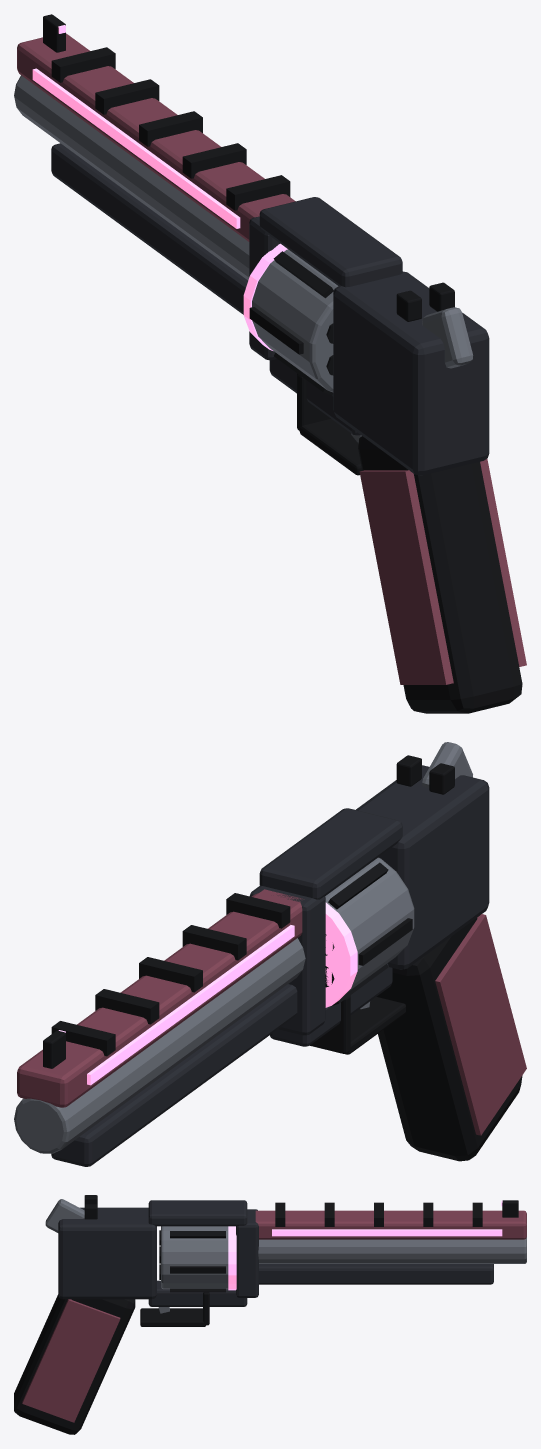
Rendered from revolver.glb.
3 renders of one model, top to bottom at view 1: azimuth 30°, elevation 25°; view 2: azimuth 150°, elevation 25°; view 3: azimuth 270°, elevation 25°, orthographic. The views are drawn at different scales.
Visible parts, largest first — view 1: Body, Cylinder, IronSights; view 2: Body, Cylinder, IronSights; view 3: Body, Cylinder, IronSights.
Part boxes in pixels (<box>): Body: <box>14,33,526,713</box>; Cylinder: <box>243,243,338,395</box>; IronSights: <box>43,14,454,321</box>; Body: <box>14,742,526,1166</box>; Cylinder: <box>325,857,414,1007</box>; IronSights: <box>43,755,454,1068</box>; Body: <box>14,1199,526,1434</box>; Cylinder: <box>159,1226,236,1292</box>; IronSights: <box>84,1195,518,1219</box>.
Size of the model in its own units: 0.045 by 0.1531 by 0.3119.
